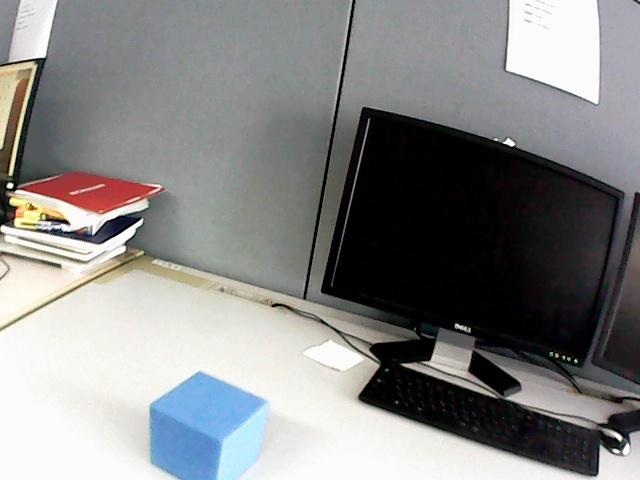blue_block: (150, 372, 268, 479)
